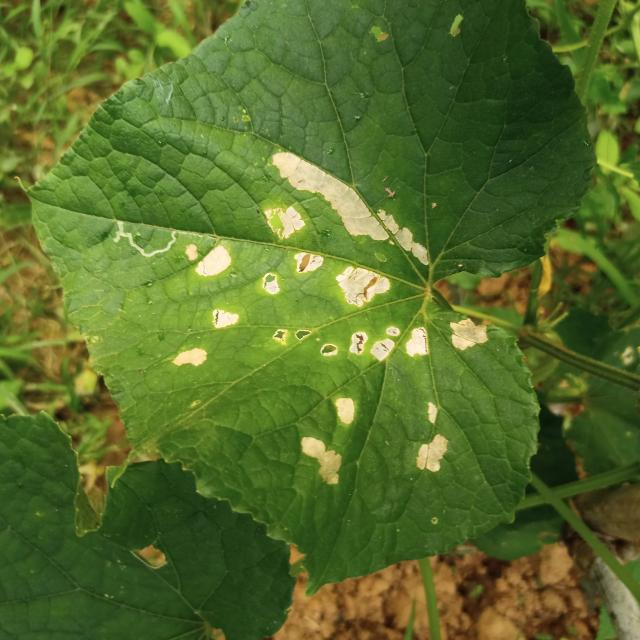disease_cucumber: (252, 145, 435, 311), (268, 311, 491, 381), (168, 238, 242, 377), (296, 392, 356, 492), (411, 399, 458, 481)
